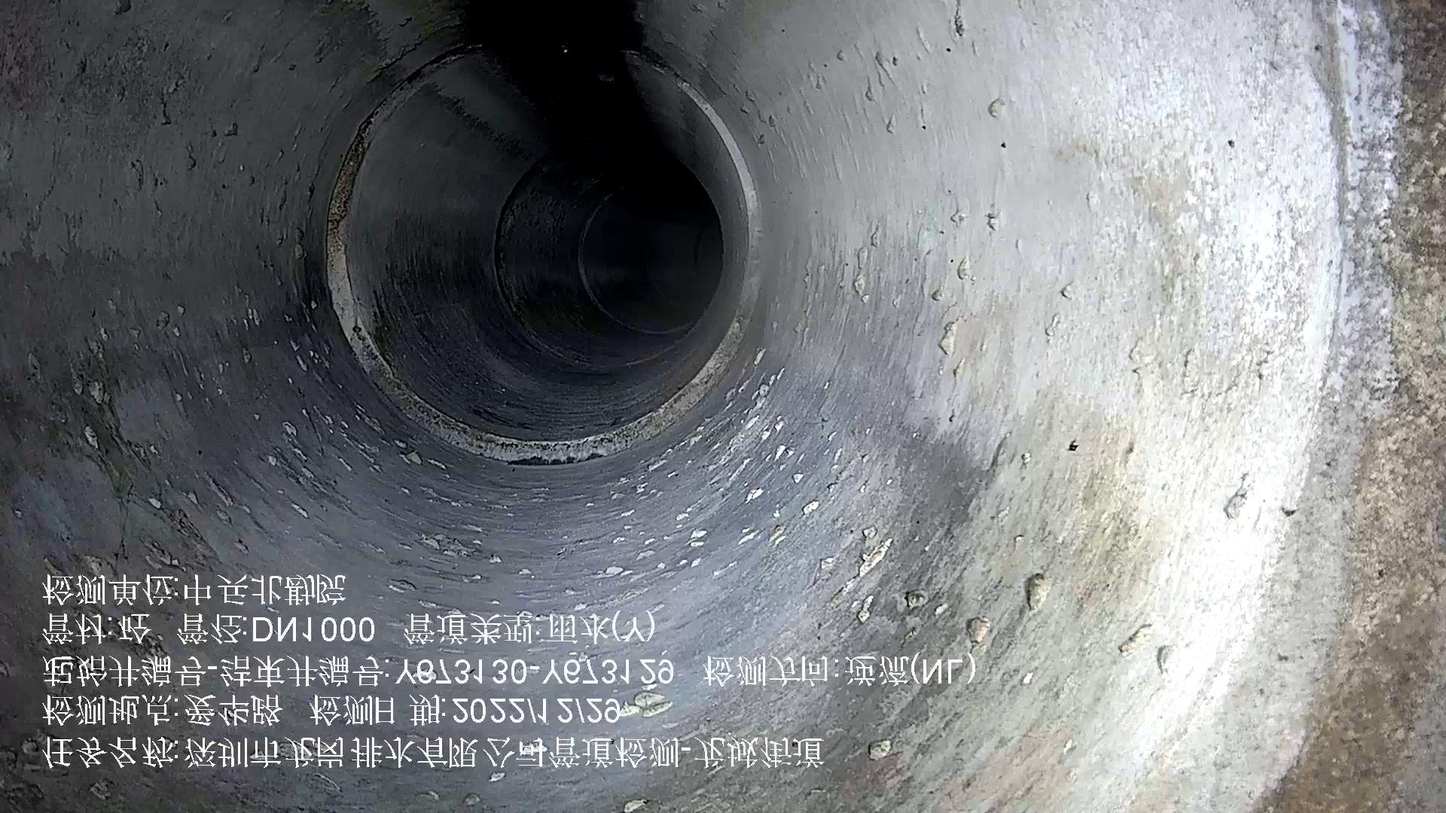CKTJ: (324, 90, 755, 463), (631, 51, 762, 299), (576, 196, 700, 335)
